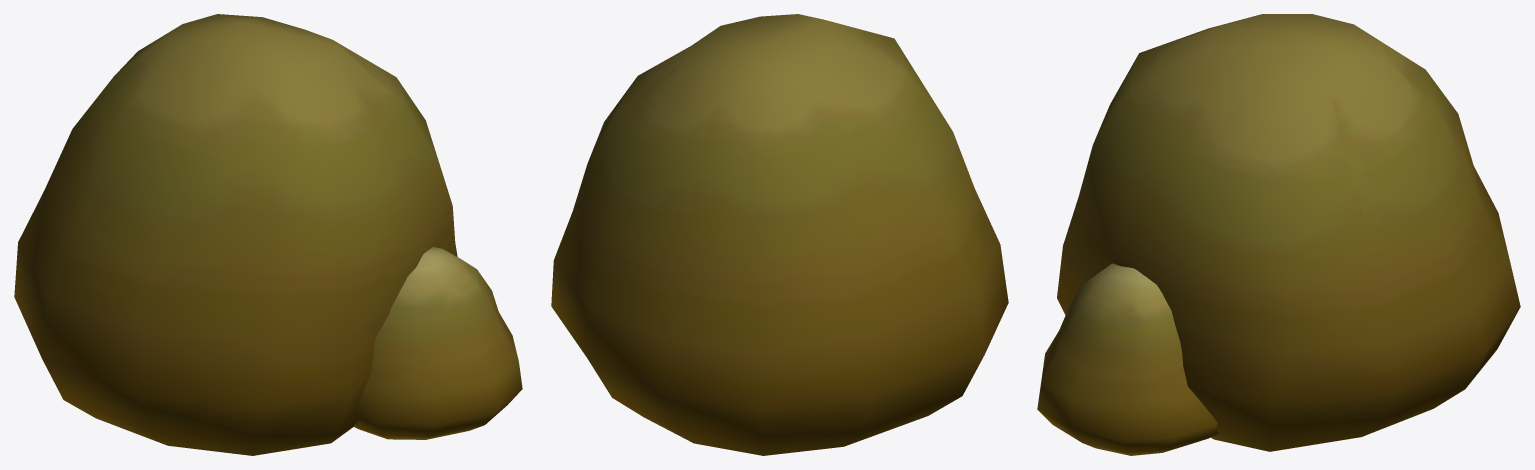
Rendered from UnitIconClay.glb.
3 views of the same model, side by side, from view 1: azimuth 30°, elevation 25°; view 2: azimuth 150°, elevation 25°; view 3: azimuth 270°, elevation 25° (orthographic).
Visible parts, largest first — view 1: Body__mBody; view 2: Body__mBody; view 3: Body__mBody.
Boxes of the visible parts, left/top/right/bottom form: Body__mBody: left=14, top=14, right=522, bottom=455; Body__mBody: left=551, top=14, right=1008, bottom=455; Body__mBody: left=1037, top=14, right=1520, bottom=455.
Bounding box in the file's own units: 3.31 × 2.65 × 3.36.
Materials: 1 (1 with a texture image).
